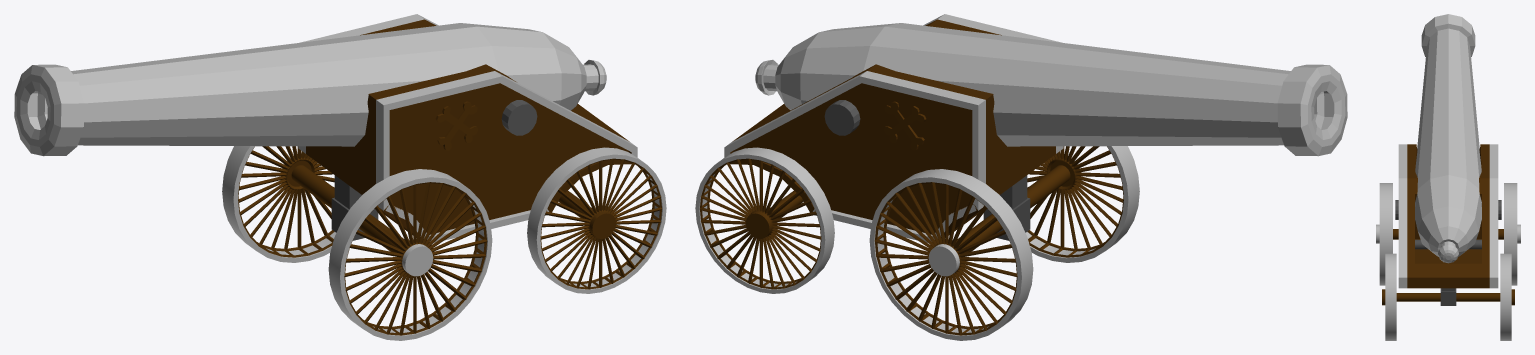
Rendered from CannonFix1.fbx.
The picture shows the model from 3 angles, left to right: view 1: azimuth 30°, elevation 25°; view 2: azimuth 150°, elevation 25°; view 3: azimuth 270°, elevation 25°; orthographic projection. The views are drawn at different scales.
Visible parts, largest first — view 1: Cannon; view 2: Cannon; view 3: Cannon.
Boxes of the visible parts, <box> form: Cannon: <box>14,14,666,340</box>; Cannon: <box>695,14,1347,340</box>; Cannon: <box>1376,14,1520,340</box>.
Bounding box in the file's own units: 36.12 × 18.23 × 13.33.
